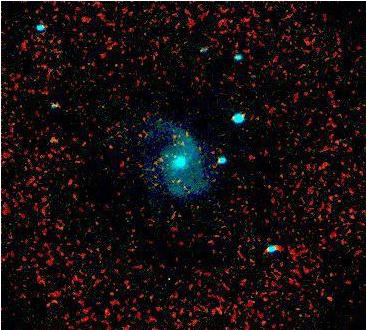star: (156, 144, 186, 174)
